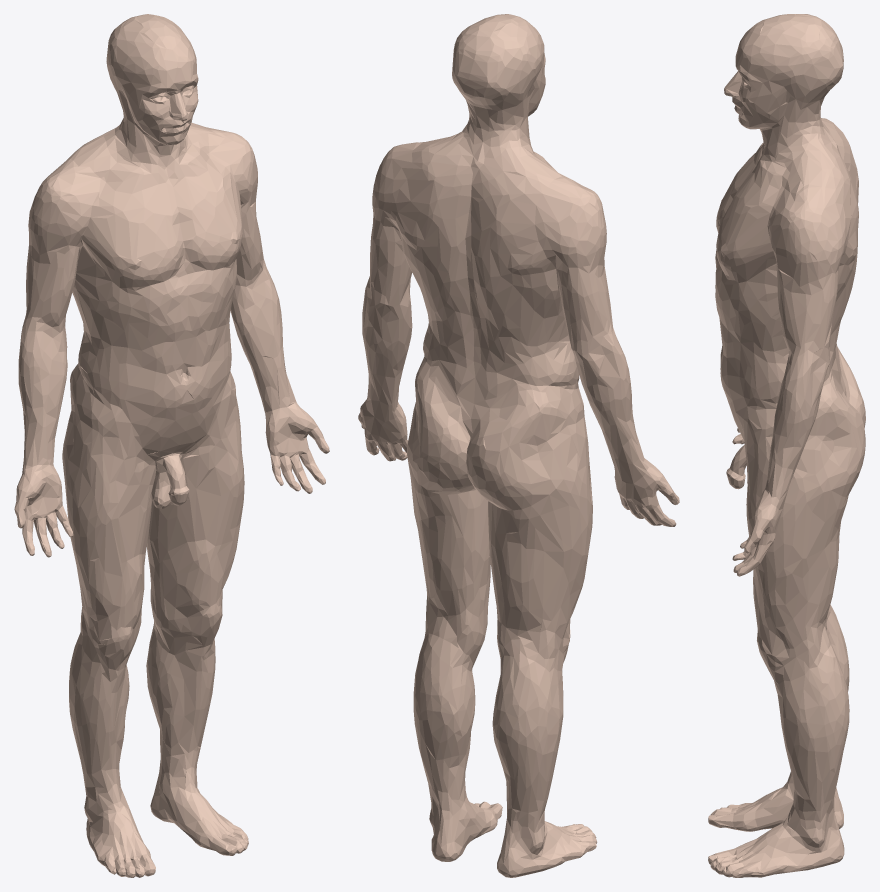
File: human-body.glb
3 renders of one model, left to right at view 1: azimuth 30°, elevation 25°; view 2: azimuth 150°, elevation 25°; view 3: azimuth 270°, elevation 25°, orthographic. The views are drawn at different scales.
Parts seen in each view (by area): view 1: skin__FMA7163; view 2: skin__FMA7163; view 3: skin__FMA7163.
Boxes of the visible parts, x1=… form: skin__FMA7163: x1=14, y1=14, x2=329, y2=877; skin__FMA7163: x1=358, y1=14, x2=679, y2=877; skin__FMA7163: x1=708, y1=14, x2=865, y2=877.
Bounding box in the file's own units: 2.67 × 6.72 × 1.16.
